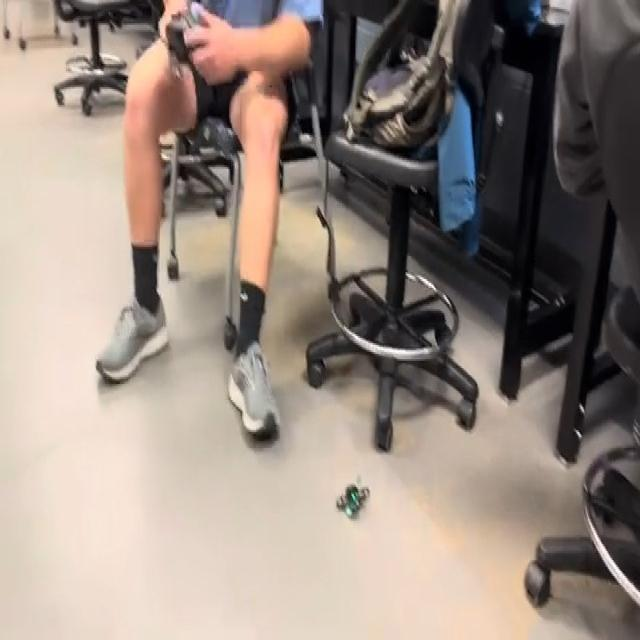drone: (329, 452, 377, 534)
